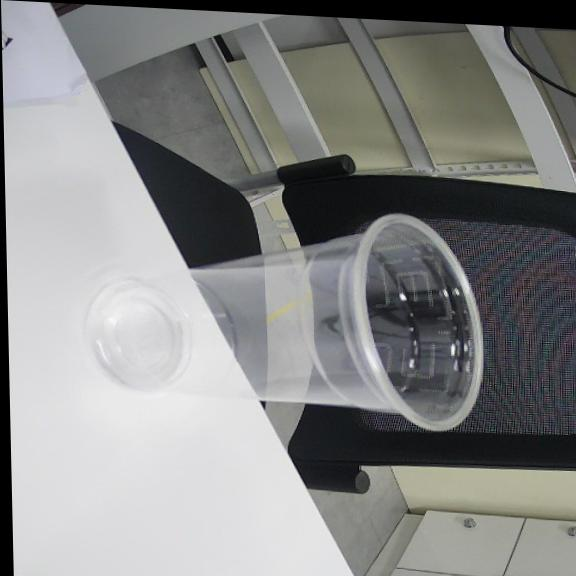Plastik: (86, 214, 481, 431)
